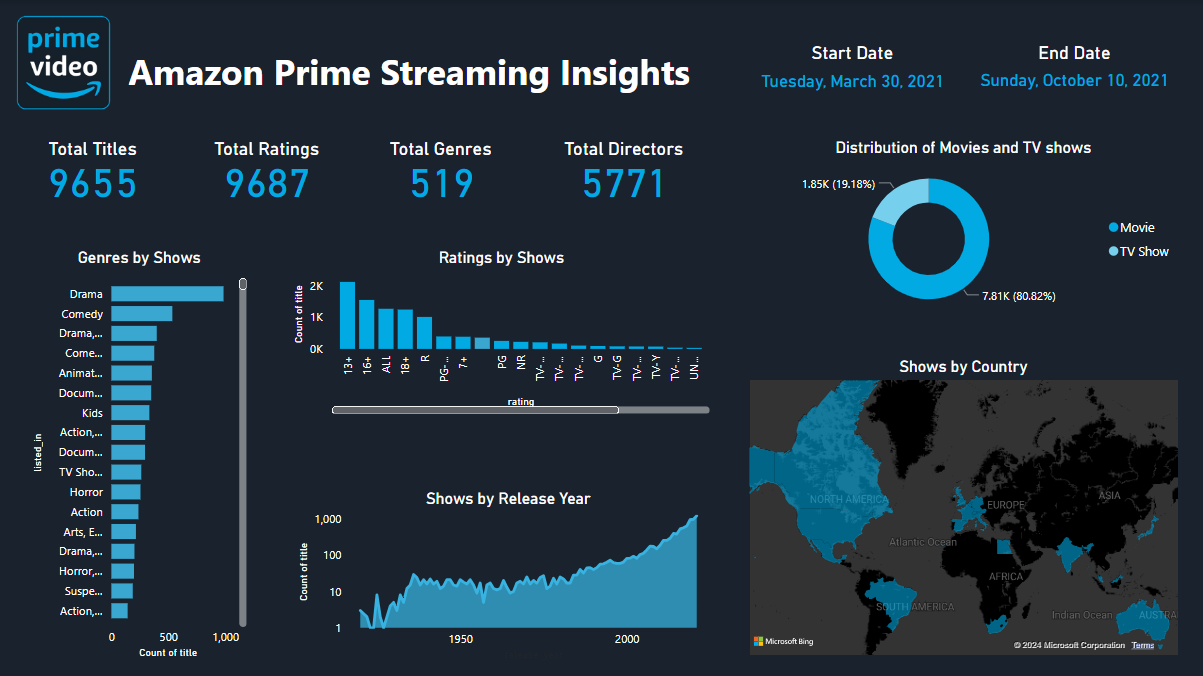

The dashboard page shown, as its layout file describes it:
{"tool":"powerbi","page":{"name":"Page 1","canvas":[1280,720],"ordinal":0},"visuals":[{"type":"card","title":"Total Titles","fields":{"Values":["amazon_prime_titles (1).Total_Titles"]},"box":[31.8,146.2,135.1,69.9],"z":0},{"type":"card","title":"Total Genres","fields":{"Values":["amazon_prime_titles (1).Total_Genres"]},"box":[401.3,146.2,135.1,69.9],"z":1000},{"type":"card","title":"Total Ratings","fields":{"Values":["amazon_prime_titles (1).Total_Ratings"]},"box":[216.6,146.2,135.1,69.9],"z":2000},{"type":"card","title":"Total Directors","fields":{"Values":["amazon_prime_titles (1).Total_Directors"]},"box":[586.1,146.2,154.2,69.9],"z":3000},{"type":"card","title":"Start Date","fields":{"Values":["Min(amazon_prime_titles (1).date_added)"]},"box":[789.9,44.5,228.9,62],"z":4000},{"type":"card","title":"End Date","fields":{"Values":["Max(amazon_prime_titles (1).date_added)"]},"box":[1025.2,44.5,228.9,58.8],"z":5000},{"type":"clusteredBarChart","title":"Genres by Shows","fields":{"Category":["amazon_prime_titles (1).listed_in"],"Y":["CountNonNull(amazon_prime_titles (1).title)"]},"box":[31.8,262.3,233.6,437.1],"z":6000},{"type":"clusteredColumnChart","title":"Ratings by Shows","fields":{"Category":["amazon_prime_titles (1).rating"],"Y":["CountNonNull(amazon_prime_titles (1).title)"]},"box":[306.8,262.3,451.4,181.2],"z":7000},{"type":"filledMap","title":"Shows by Country","fields":{"Category":["amazon_prime_titles (1).country"]},"box":[789.9,378.3,464.1,321.1],"z":8000},{"type":"donutChart","title":"Distribution of Movies and TV shows","fields":{"Category":["amazon_prime_titles (1).type"],"Y":["CountNonNull(amazon_prime_titles (1).type)"]},"box":[789.9,146.2,464.1,193.9],"z":9000},{"type":"areaChart","title":"Shows by Release Year","fields":{"Category":["amazon_prime_titles (1).release_year"],"Y":["Count(amazon_prime_titles (1).title)"]},"box":[311.5,518.1,451.4,181.2],"z":10000},{"type":"textbox","box":[131.9,44.5,626.2,76.3],"z":11000},{"type":"image","box":[12.7,9.5,112.8,114.4],"z":12000}]}

Visuals, with their boxes in screenshot pixels (x1, y1, x2, y2), scaled from the page's 1280x720 canvas onto the 1203x676 screenshot:
"Total Titles" card: <bbox>30, 137, 157, 203</bbox>
"Total Genres" card: <bbox>377, 137, 504, 203</bbox>
"Total Ratings" card: <bbox>204, 137, 331, 203</bbox>
"Total Directors" card: <bbox>551, 137, 696, 203</bbox>
"Start Date" card: <bbox>742, 42, 958, 100</bbox>
"End Date" card: <bbox>964, 42, 1179, 97</bbox>
"Genres by Shows" clusteredBarChart: <bbox>30, 246, 249, 657</bbox>
"Ratings by Shows" clusteredColumnChart: <bbox>288, 246, 713, 416</bbox>
"Shows by Country" filledMap: <bbox>742, 355, 1179, 657</bbox>
"Distribution of Movies and TV shows" donutChart: <bbox>742, 137, 1179, 319</bbox>
"Shows by Release Year" areaChart: <bbox>293, 486, 717, 657</bbox>
textbox: <bbox>124, 42, 712, 113</bbox>
image: <bbox>12, 9, 118, 116</bbox>
